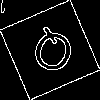Q: (25, 25, 79, 85)
